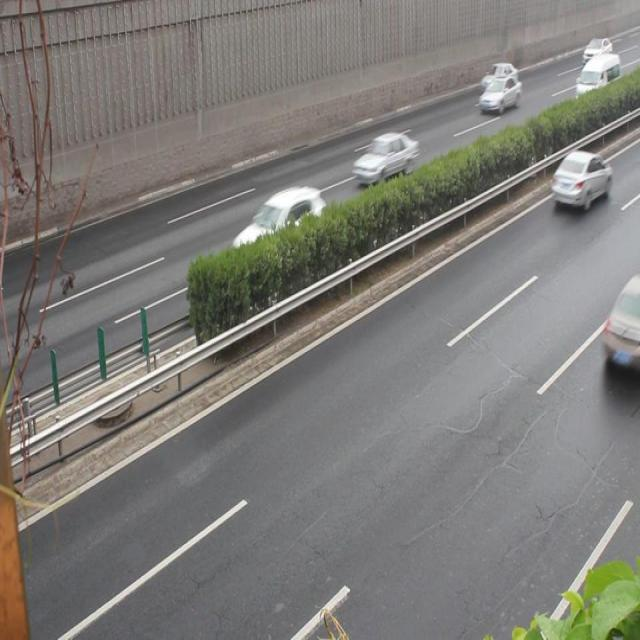car: (230, 187, 328, 274), (599, 273, 640, 376), (351, 130, 418, 186), (550, 150, 610, 207), (479, 76, 520, 112), (480, 61, 516, 94)
